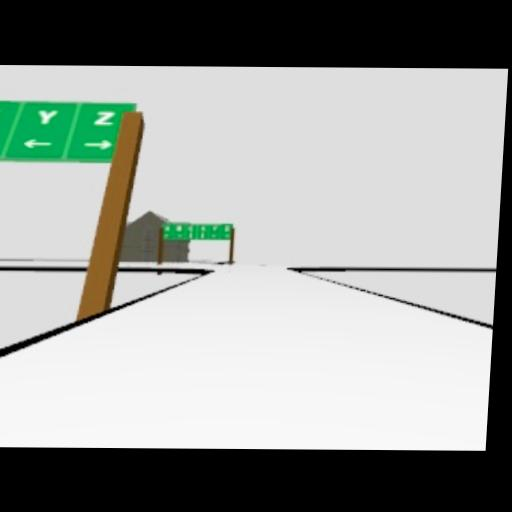Left: (21, 137, 56, 151)
Right: (81, 139, 113, 153)
Y: (35, 107, 61, 128)
Z: (93, 109, 117, 128)
